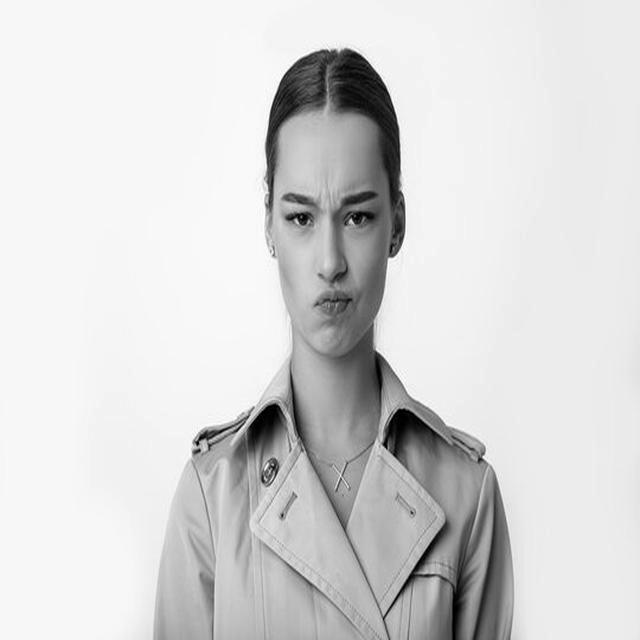Disgust: (273, 110, 395, 360)
